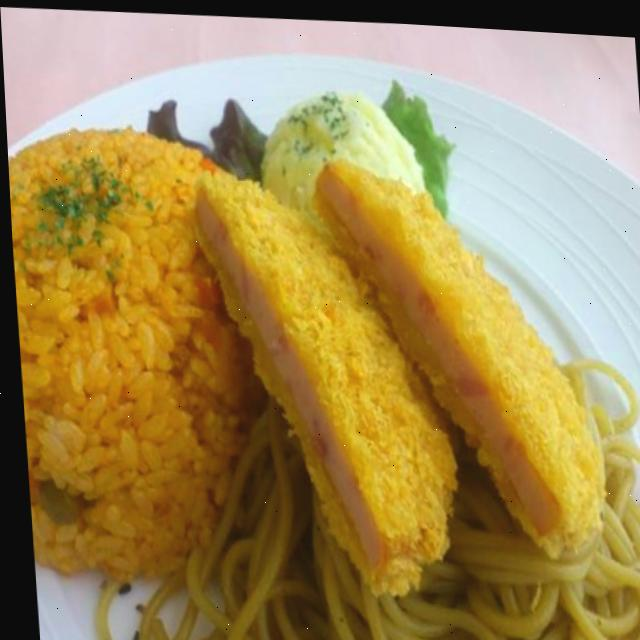炸货点心: (137, 72, 617, 616)
